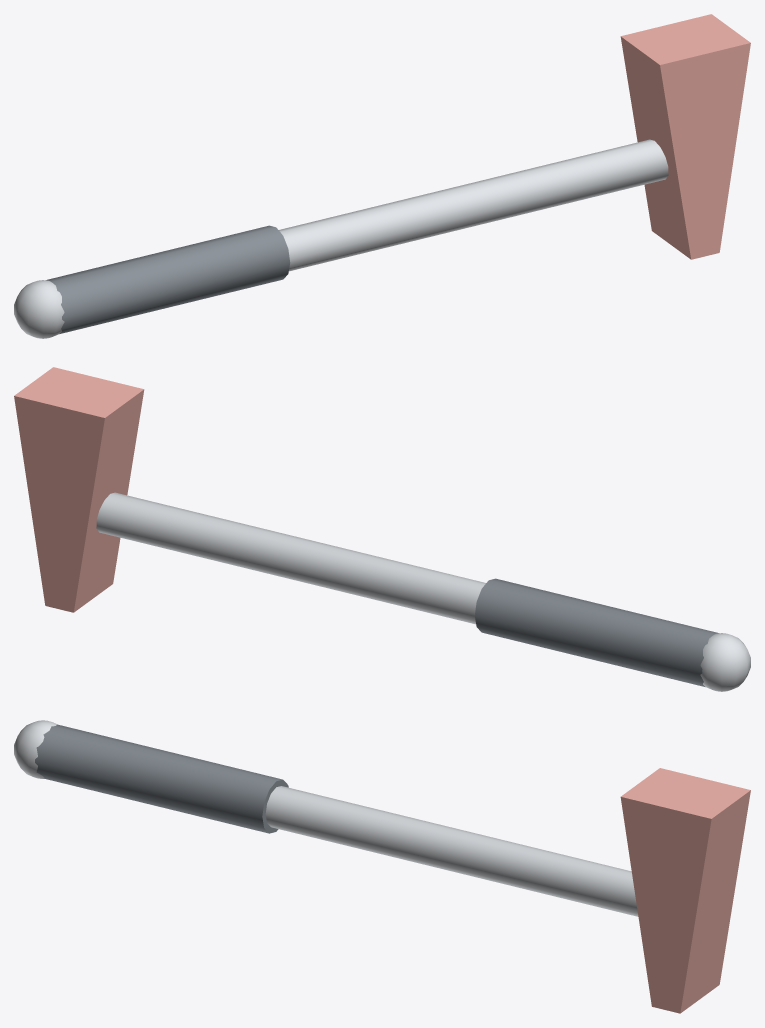
Rendered from hammer.glb.
The picture shows the model from 3 angles, top to bottom: view 1: azimuth 30°, elevation 25°; view 2: azimuth 150°, elevation 25°; view 3: azimuth 330°, elevation 25°; orthographic projection.
Visible parts, largest first — view 1: hammer; view 2: hammer; view 3: hammer.
Part boxes in pixels (x1,y1,x2,y2): hammer: (14,14,750,338); hammer: (14,367,750,691); hammer: (14,720,750,1013).
Size of the model in its own units: 0.2509 by 0.068 by 0.024.
